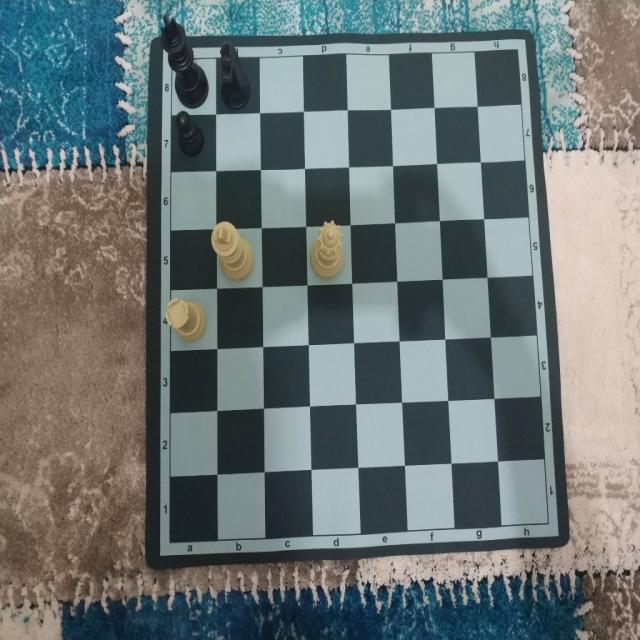chess-table-corners: (152, 36, 188, 82), (536, 510, 558, 536), (156, 532, 180, 555), (504, 41, 526, 61)
